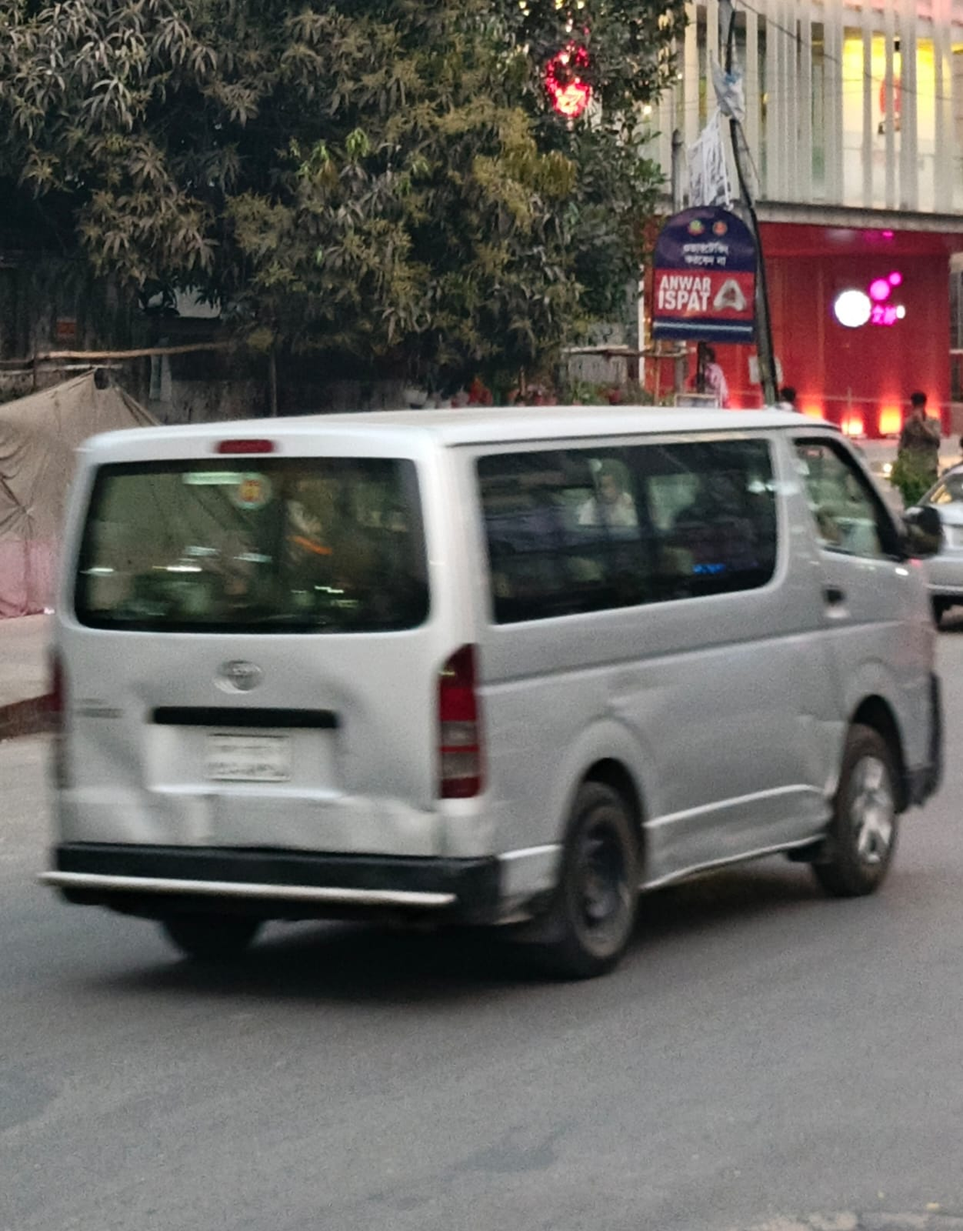private car: (21, 375, 963, 1029)
